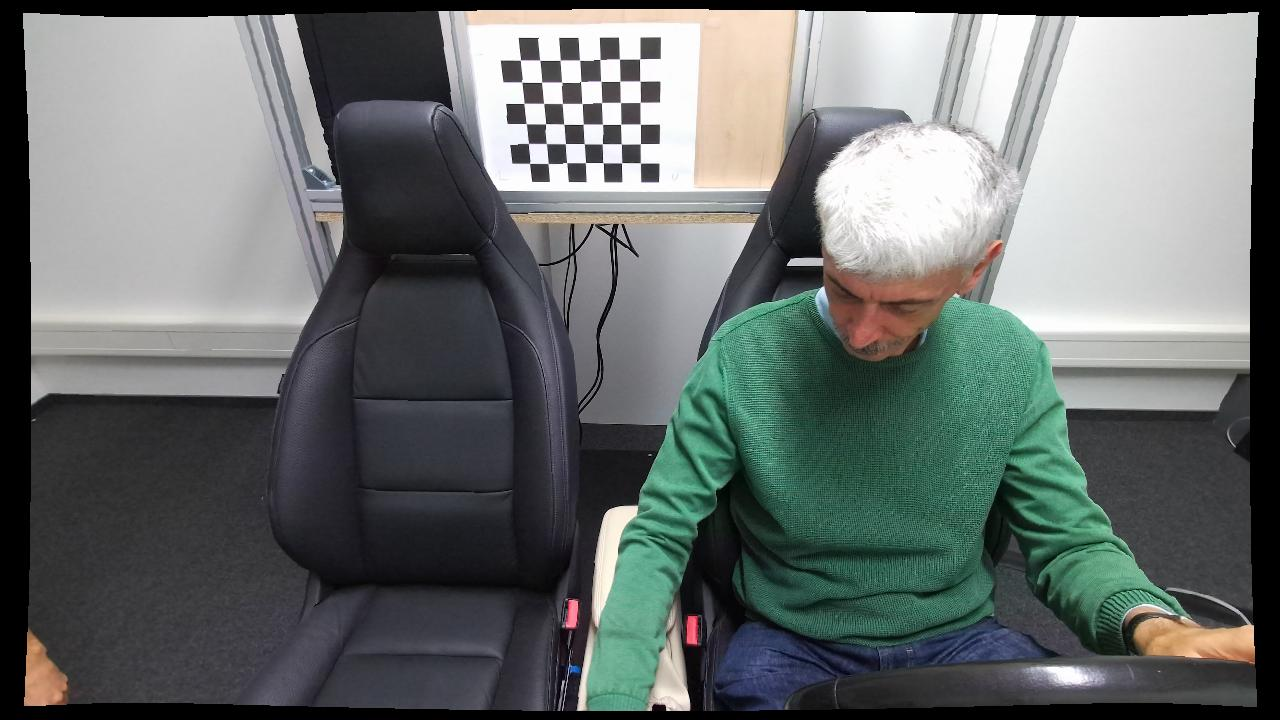Distracted: (586, 124, 1242, 713)
